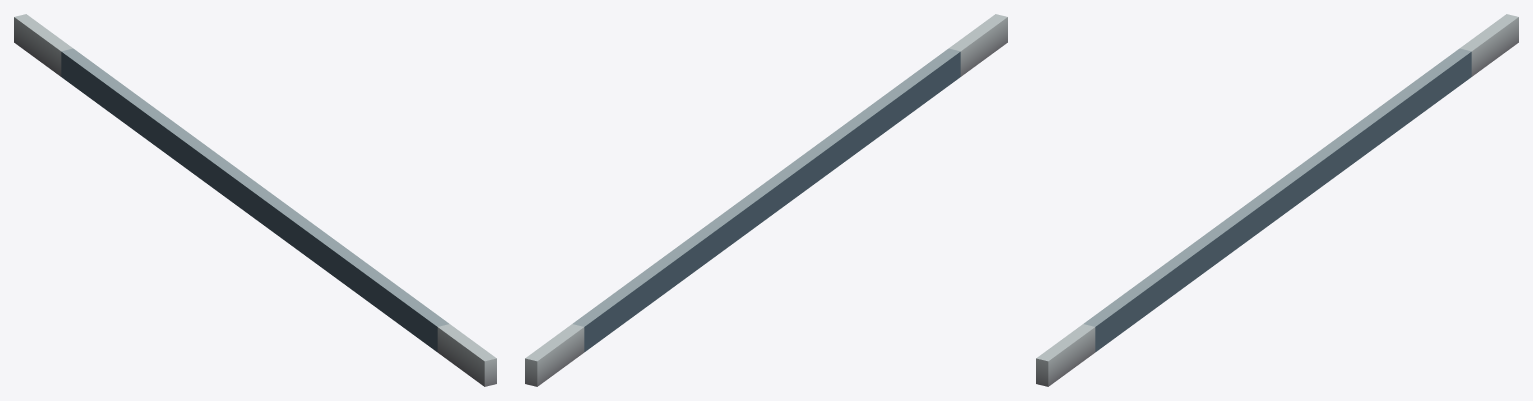
Rendered from Grindrail01.gltf.
The picture shows the model from 3 angles, left to right: view 1: azimuth 30°, elevation 25°; view 2: azimuth 150°, elevation 25°; view 3: azimuth 330°, elevation 25°; orthographic projection.
Parts seen in each view (by area): view 1: Grindrail01Mesh; view 2: Grindrail01Mesh; view 3: Grindrail01Mesh.
Part boxes in pixels (left/top/right/bottom): Grindrail01Mesh: left=14, top=14, right=496, bottom=386; Grindrail01Mesh: left=525, top=14, right=1007, bottom=386; Grindrail01Mesh: left=1036, top=14, right=1518, bottom=386.
Bounding box in the file's own units: 0.15 × 0.3 × 10.
